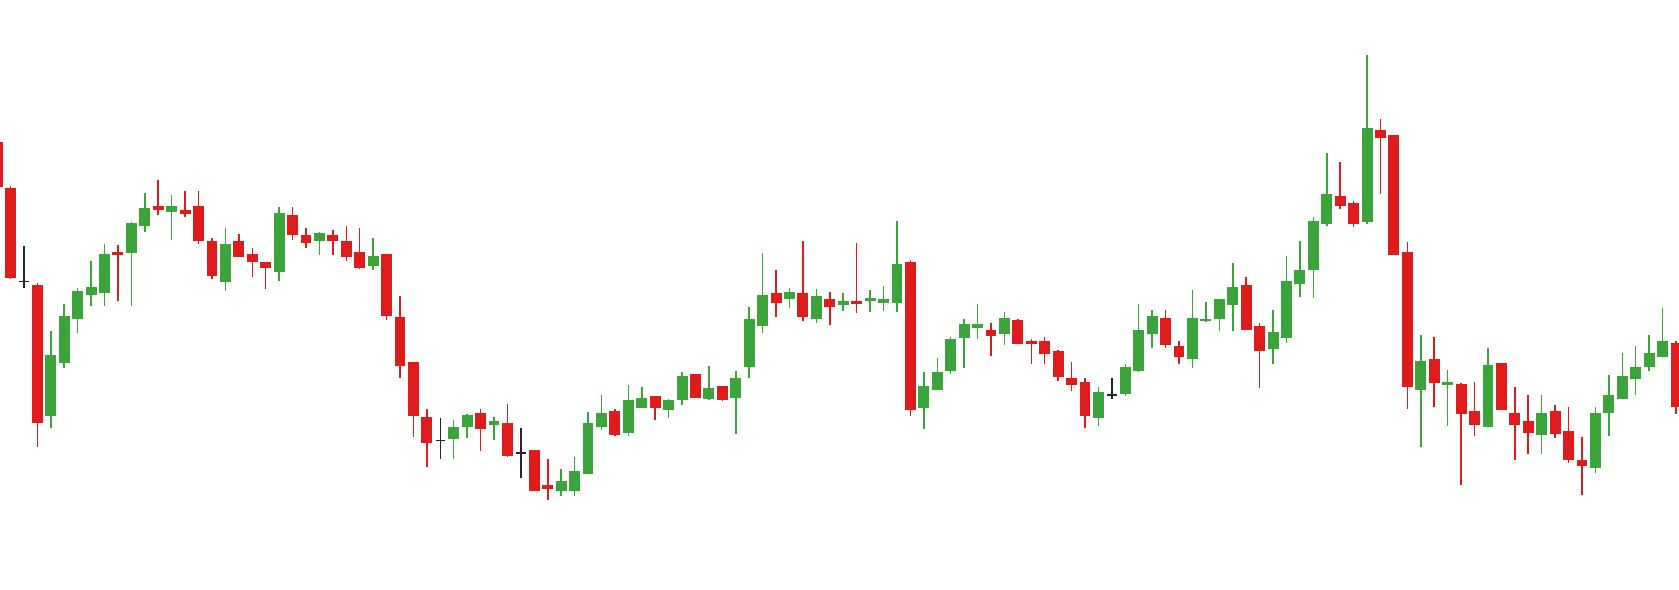buy: (919, 336, 1106, 429)
sell: (218, 205, 300, 268)
